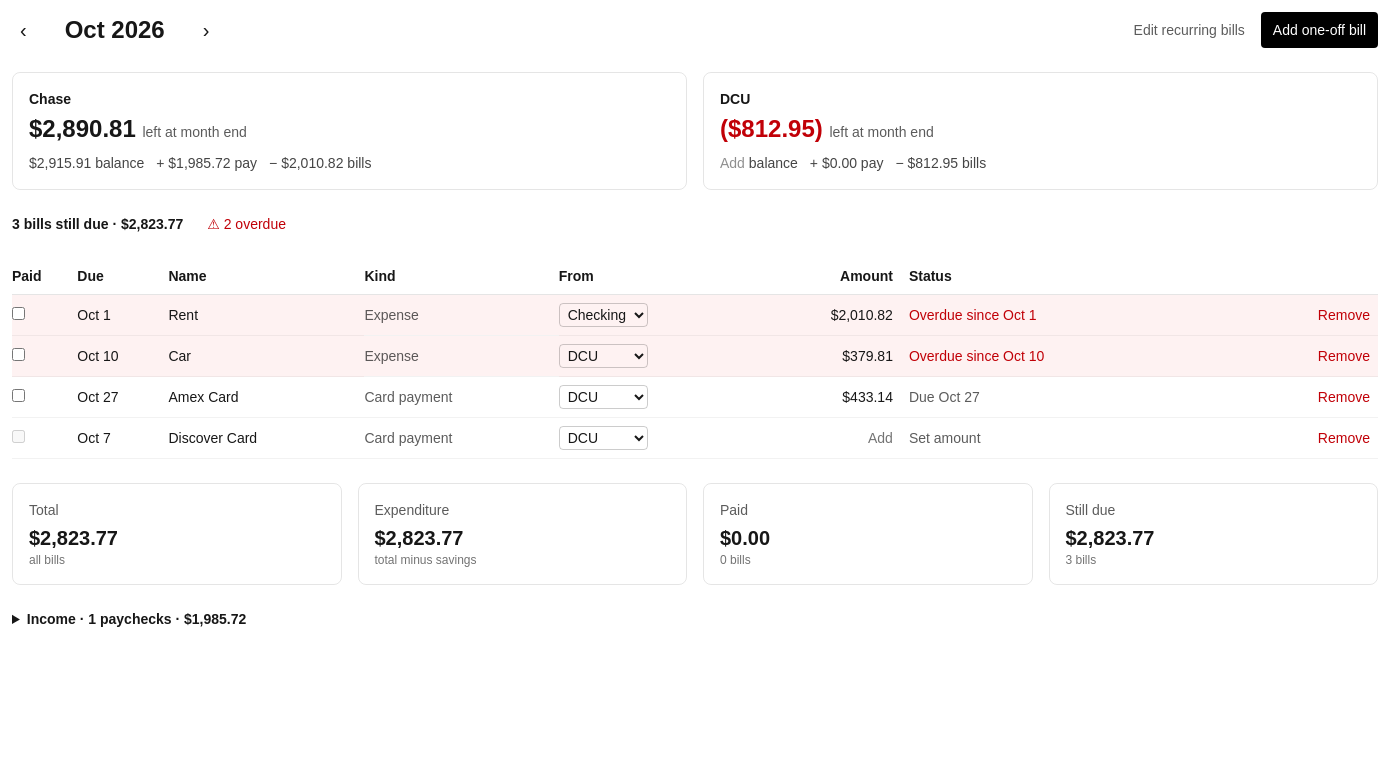
Test case: BillsPage › Escape cancels an inline edit
Click the button named "Car amount".
click(868, 356)  # box [842,346,893,366]
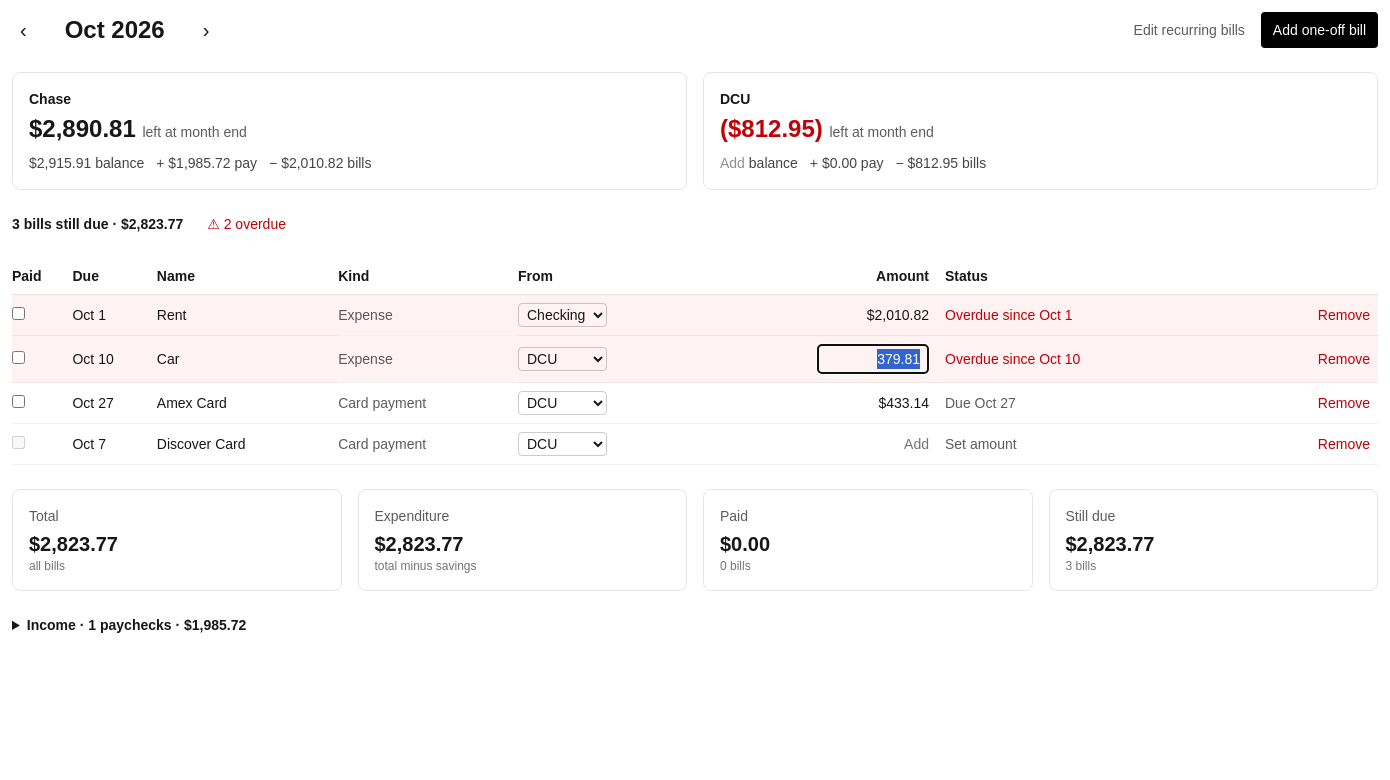
Type "9" into the field named "Car amount".
click(873, 359); type("9")  # box [817,344,929,374]
Then press Escape
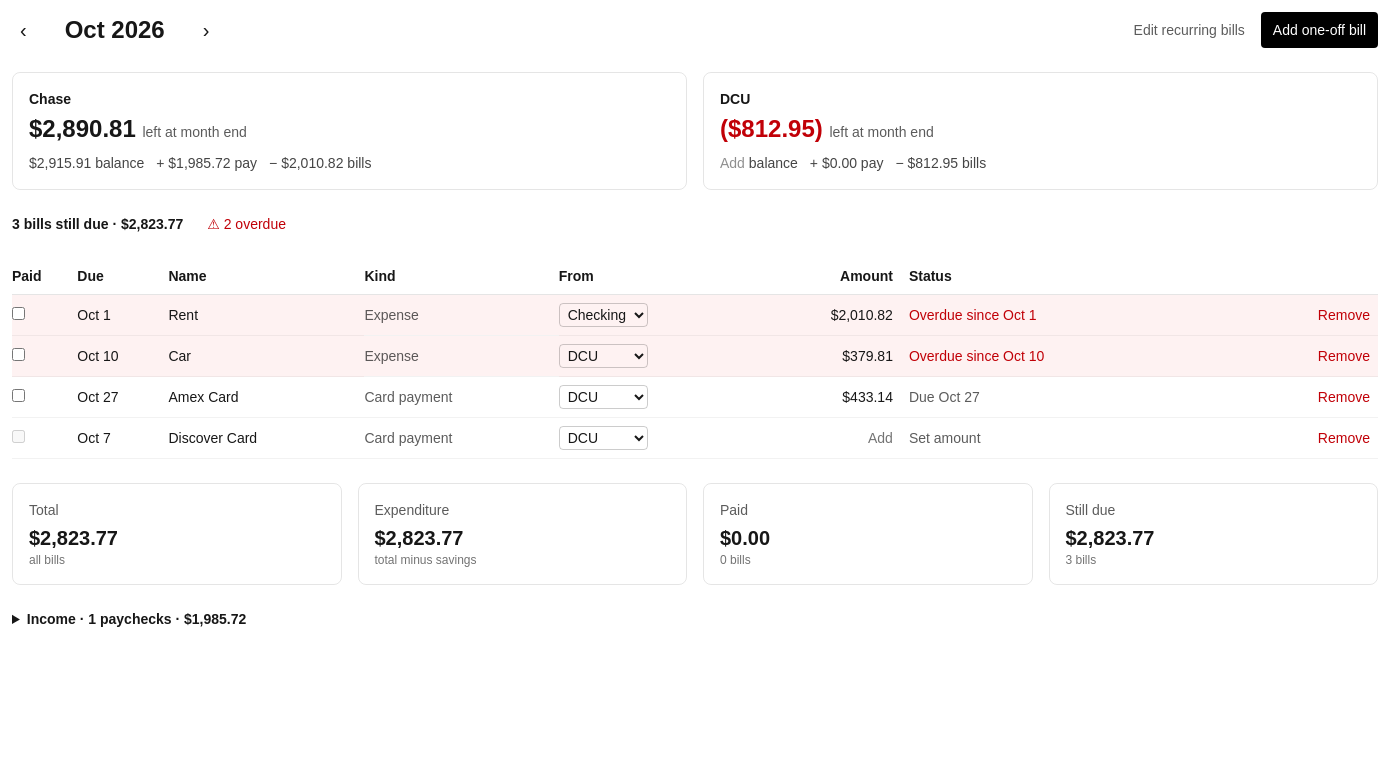
Now the button named "Car amount: $379.81. Edit" is shown, box [842,346,893,366]
